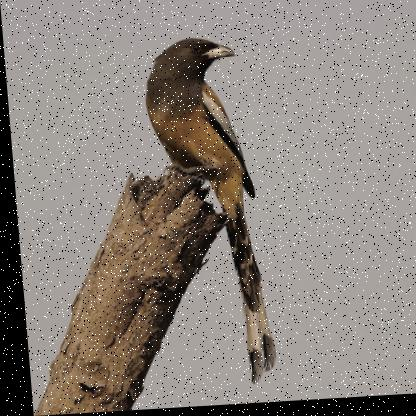Burung: (141, 37, 271, 390)
